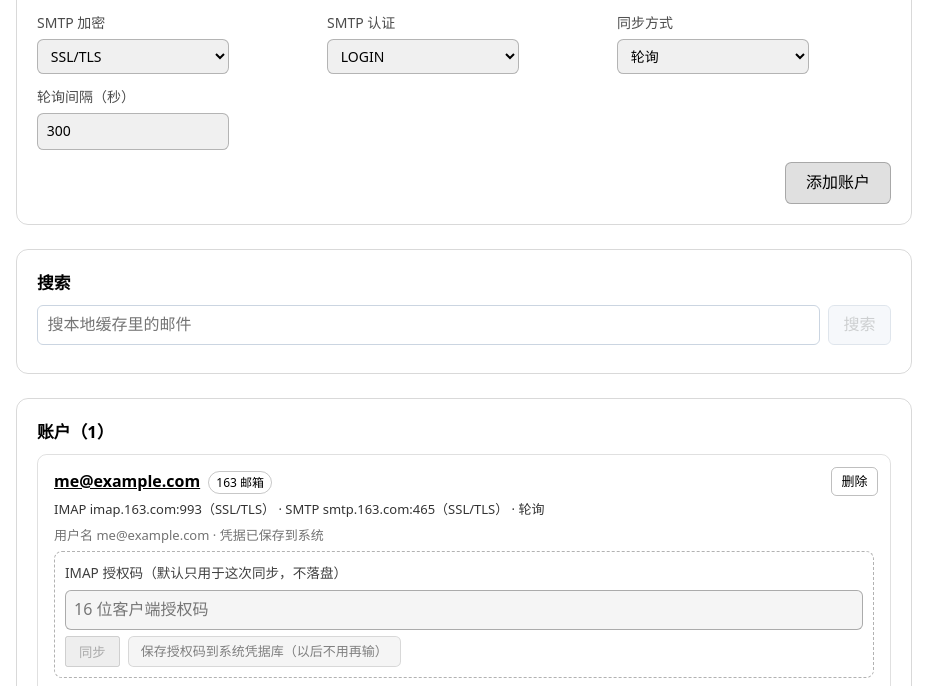
Scenario: 搜索面板 › 点开命中后：切到那封邮件所在的文件夹并打开它
The width and height of the screenshot is (929, 686).
(page scrolled)
Type "进度" into the search field at (429,325), box [37, 305, 820, 345]
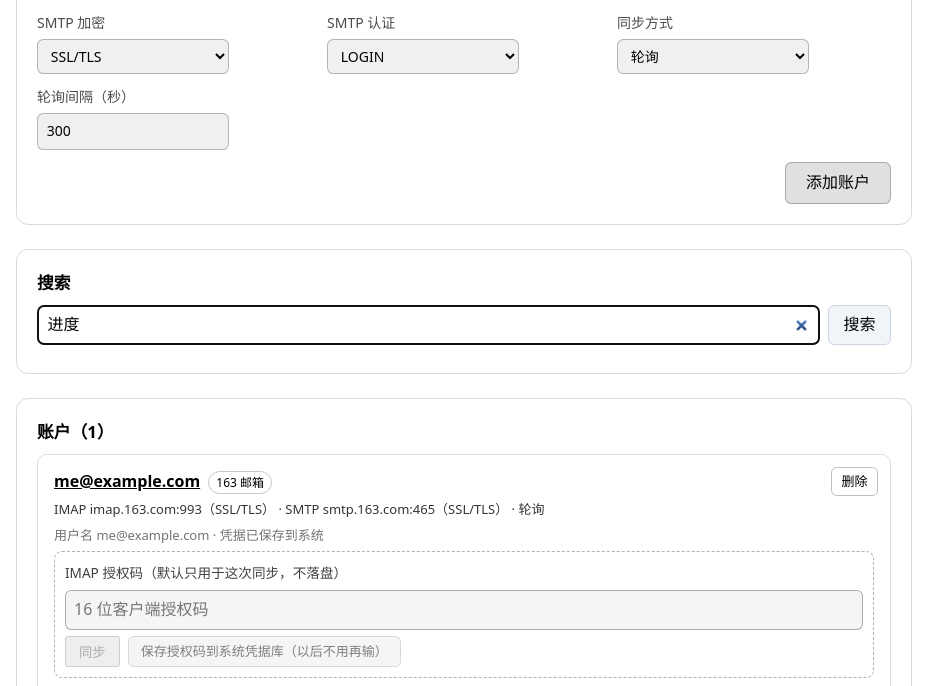
Click the button "搜索" at (860,325), box [828, 305, 891, 345]
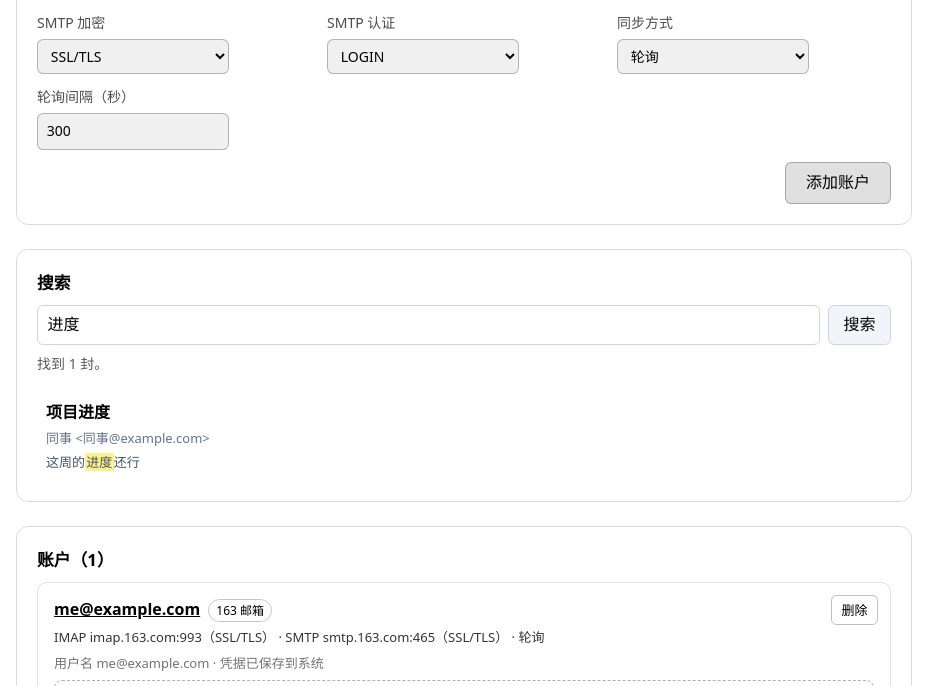
Click the button with test id "search-result" that starts with "项目进度" at (78,412), box [37, 392, 891, 482]
(page scrolled)
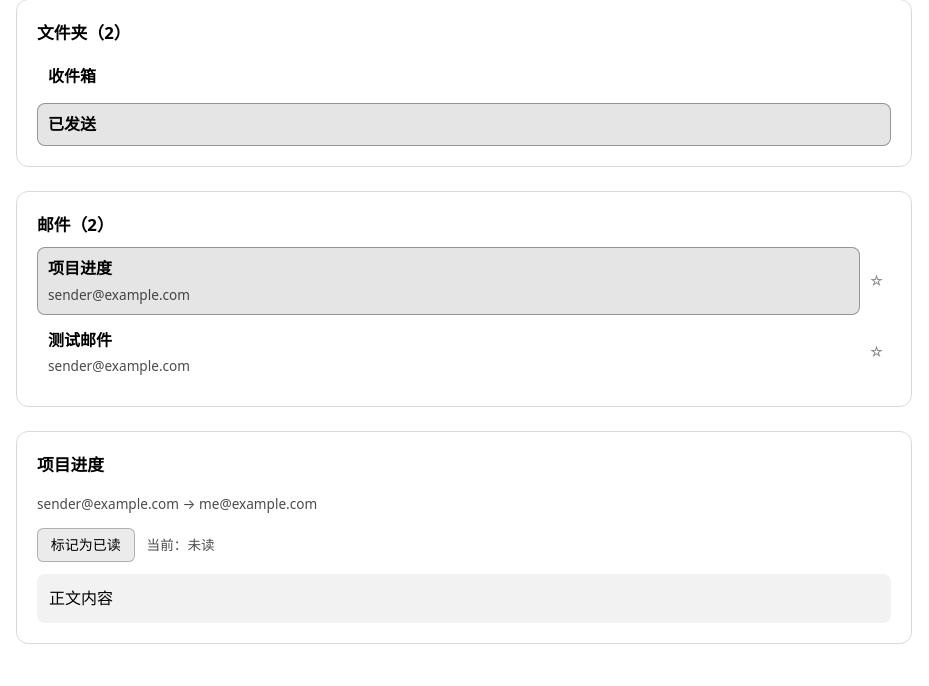
Result: the heading "项目进度" is shown at [37, 453, 104, 476]
